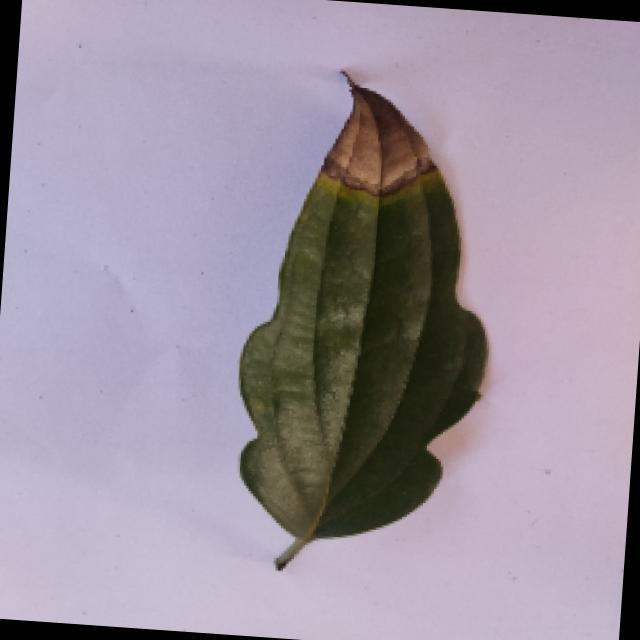footrot: (218, 64, 507, 582)
